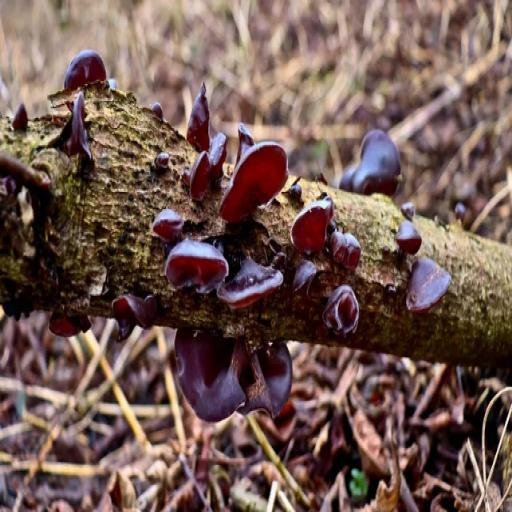Wood Ear Mushroom: (164, 322, 297, 428), (221, 126, 287, 228), (333, 120, 410, 205), (399, 257, 460, 325), (213, 255, 285, 302), (167, 237, 225, 294), (109, 283, 162, 341), (192, 127, 230, 203), (58, 92, 94, 168), (291, 195, 330, 253), (322, 279, 363, 333), (183, 87, 216, 152), (61, 50, 112, 86), (331, 225, 371, 269), (46, 306, 94, 340), (394, 208, 426, 253), (292, 252, 320, 301), (151, 198, 186, 236), (285, 174, 310, 205), (152, 147, 171, 175)
